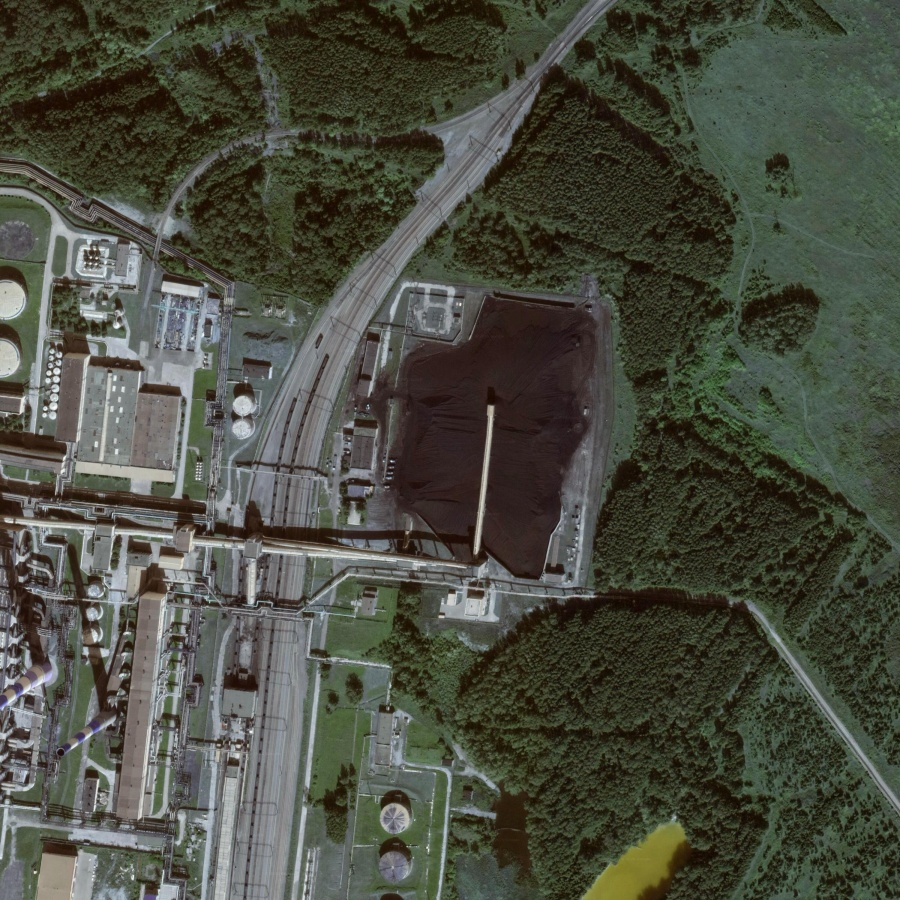PowerPlant: (327, 274, 597, 589)
